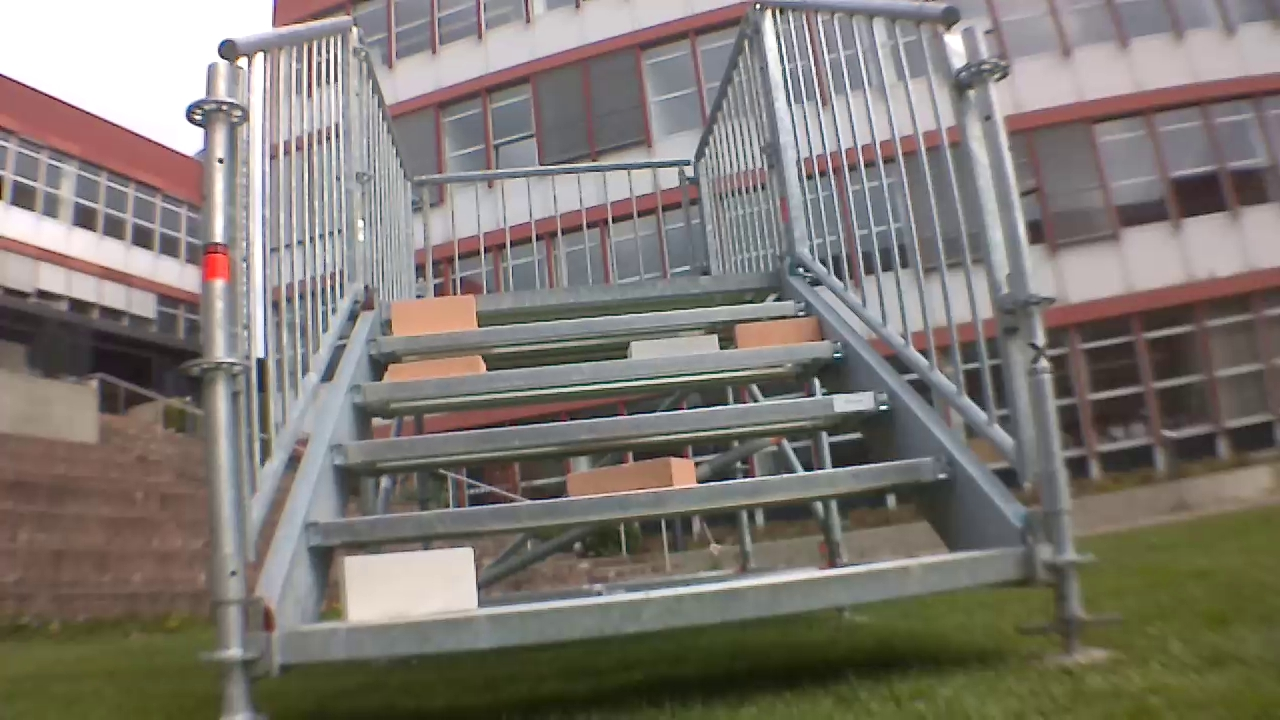brick: (343, 548, 476, 625), (563, 458, 701, 499), (391, 295, 475, 333), (732, 315, 824, 348), (385, 354, 492, 381), (629, 335, 718, 356)
edge: (292, 551, 1033, 666), (311, 457, 954, 546), (333, 387, 897, 459), (353, 355, 850, 403), (369, 295, 810, 348), (382, 266, 792, 309)
stairs: (193, 2, 1105, 678)
steps: (285, 266, 1031, 673)
